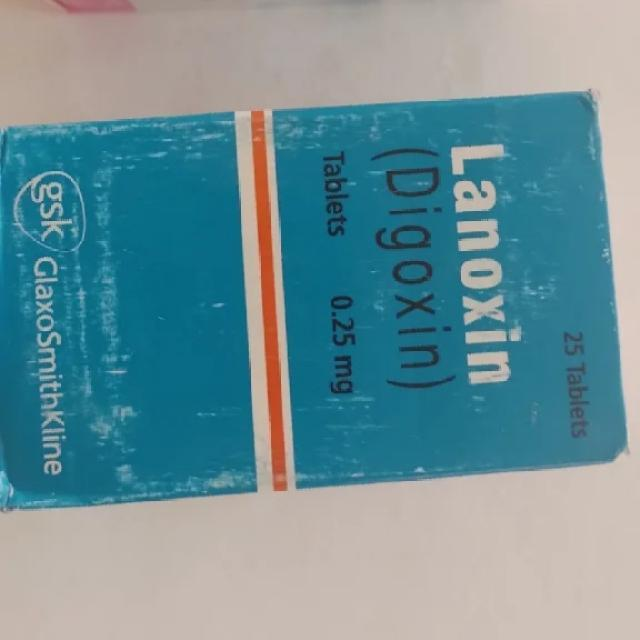drug-name: (448, 142, 523, 391)
